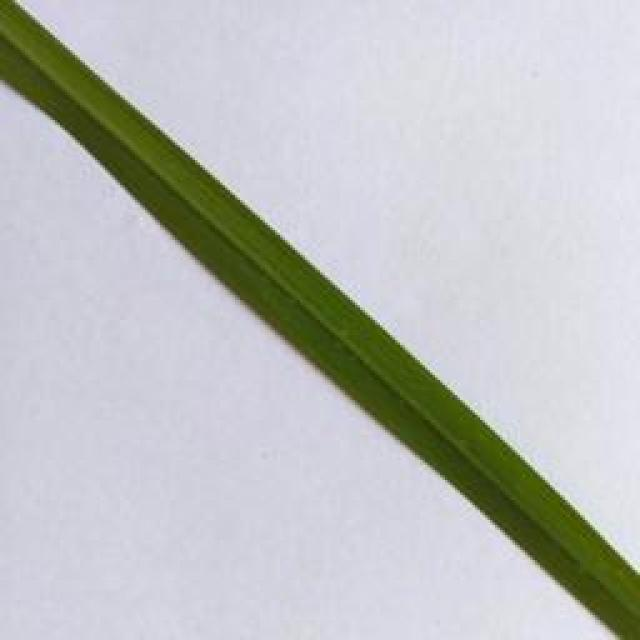Healthy: (0, 8, 640, 640)
